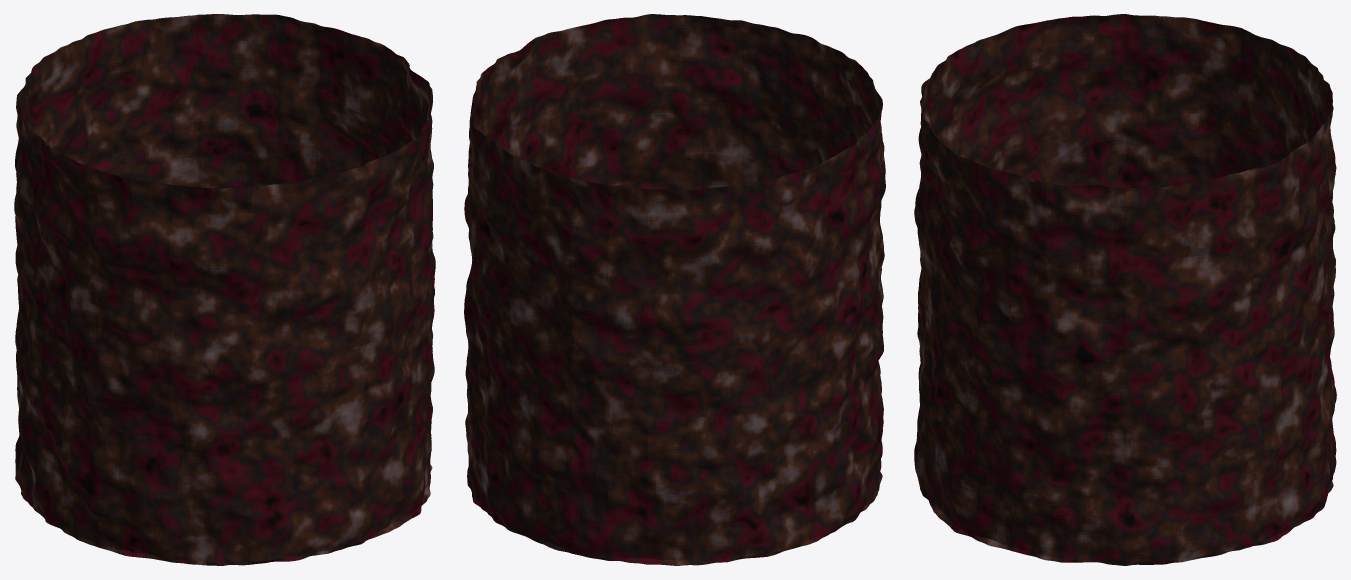
The model's file is hole 1.fbx.
The picture shows the model from 3 angles, left to right: view 1: azimuth 30°, elevation 25°; view 2: azimuth 150°, elevation 25°; view 3: azimuth 270°, elevation 25°; orthographic projection.
Visible parts, largest first — view 1: Cylinder; view 2: Cylinder; view 3: Cylinder.
Boxes of the visible parts, x1,y1,x2,y2 form: Cylinder: (14,14,435,565); Cylinder: (464,14,885,565); Cylinder: (914,14,1336,565).
Bounding box in the file's own units: 204 × 202 × 205.
